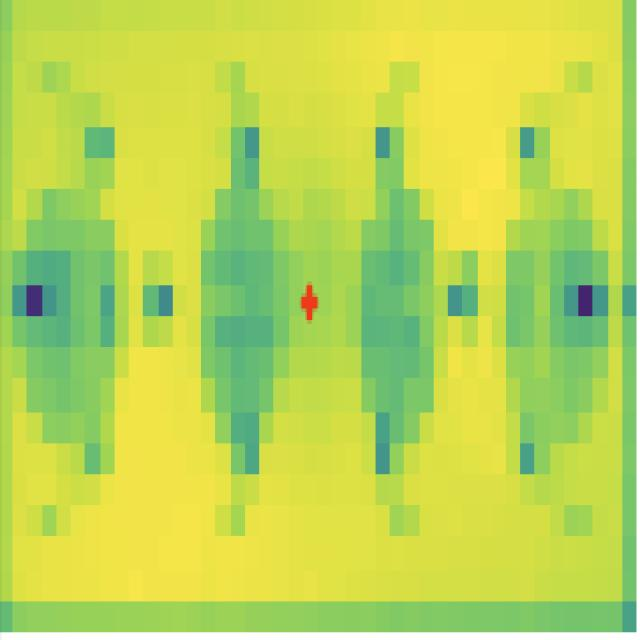Concrete: (502, 186, 600, 446)
Glass: (356, 186, 435, 451)
Metal: (34, 190, 132, 443)
Wood: (204, 185, 289, 429)
